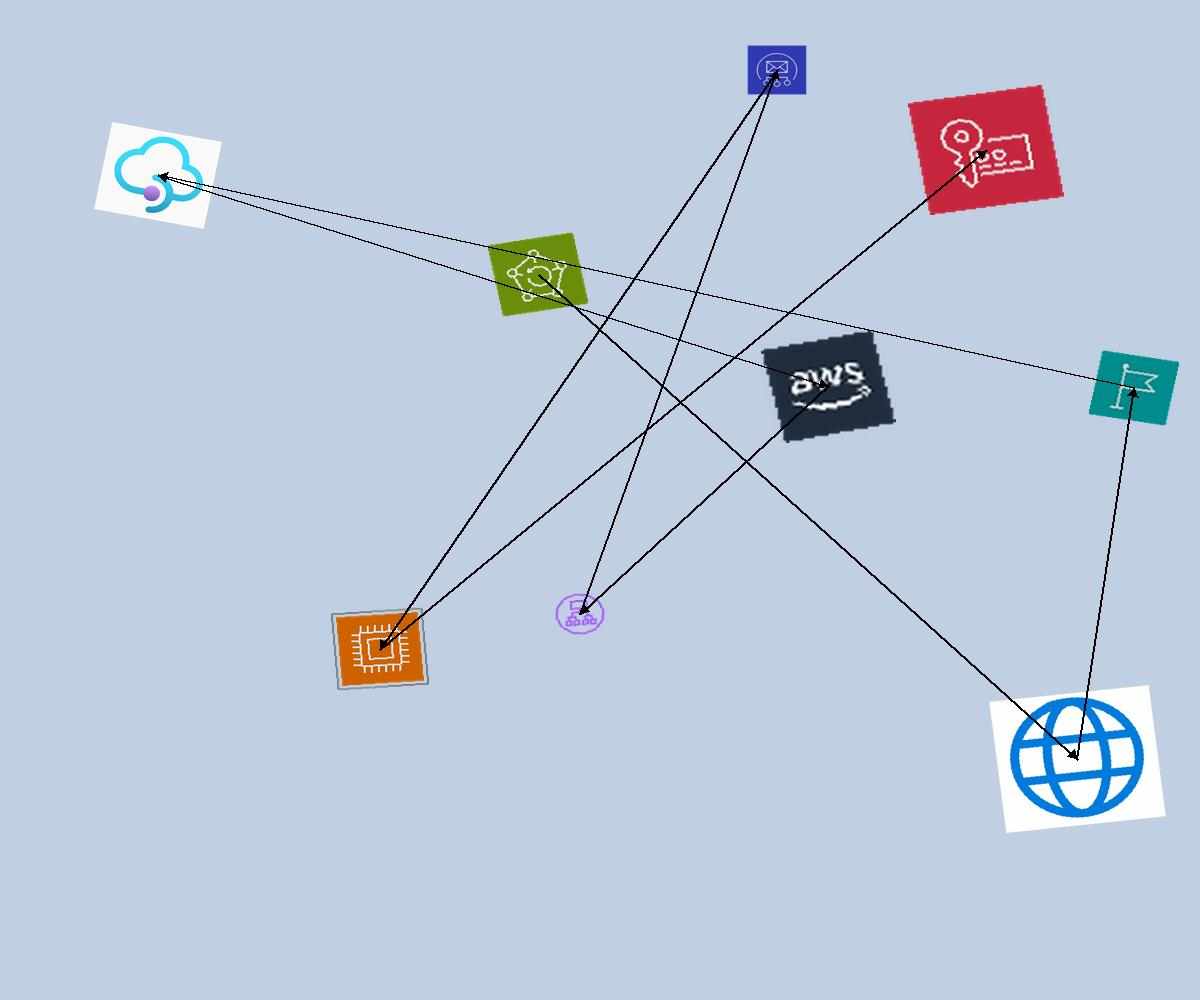AWS-Backup: (487, 232, 589, 317)
AWS-Category_Compute: (330, 607, 430, 691)
AWS-Cloud-logo: (761, 330, 896, 443)
AWS-Key-Management-Service: (908, 85, 1064, 215)
AWS-Region: (1088, 350, 1180, 426)
AWS-Res_Elastic-Load-Balancing_Application-Load-Balancer: (550, 589, 610, 639)
AWS-Simple-Email-Service: (747, 45, 807, 95)
Azure_api_gateway: (94, 122, 222, 229)
Azure_http: (989, 685, 1166, 833)
